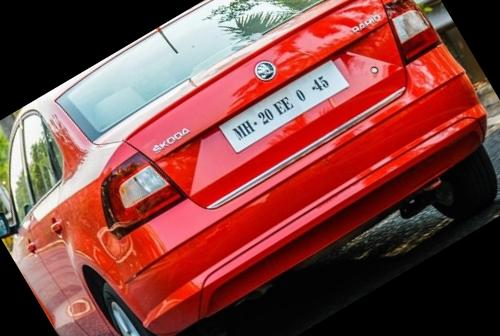plate: (205, 41, 364, 169)
